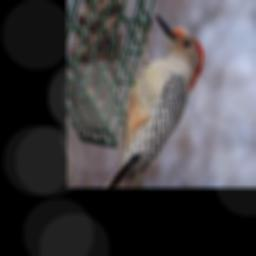Woodpecker: (109, 15, 204, 187)
